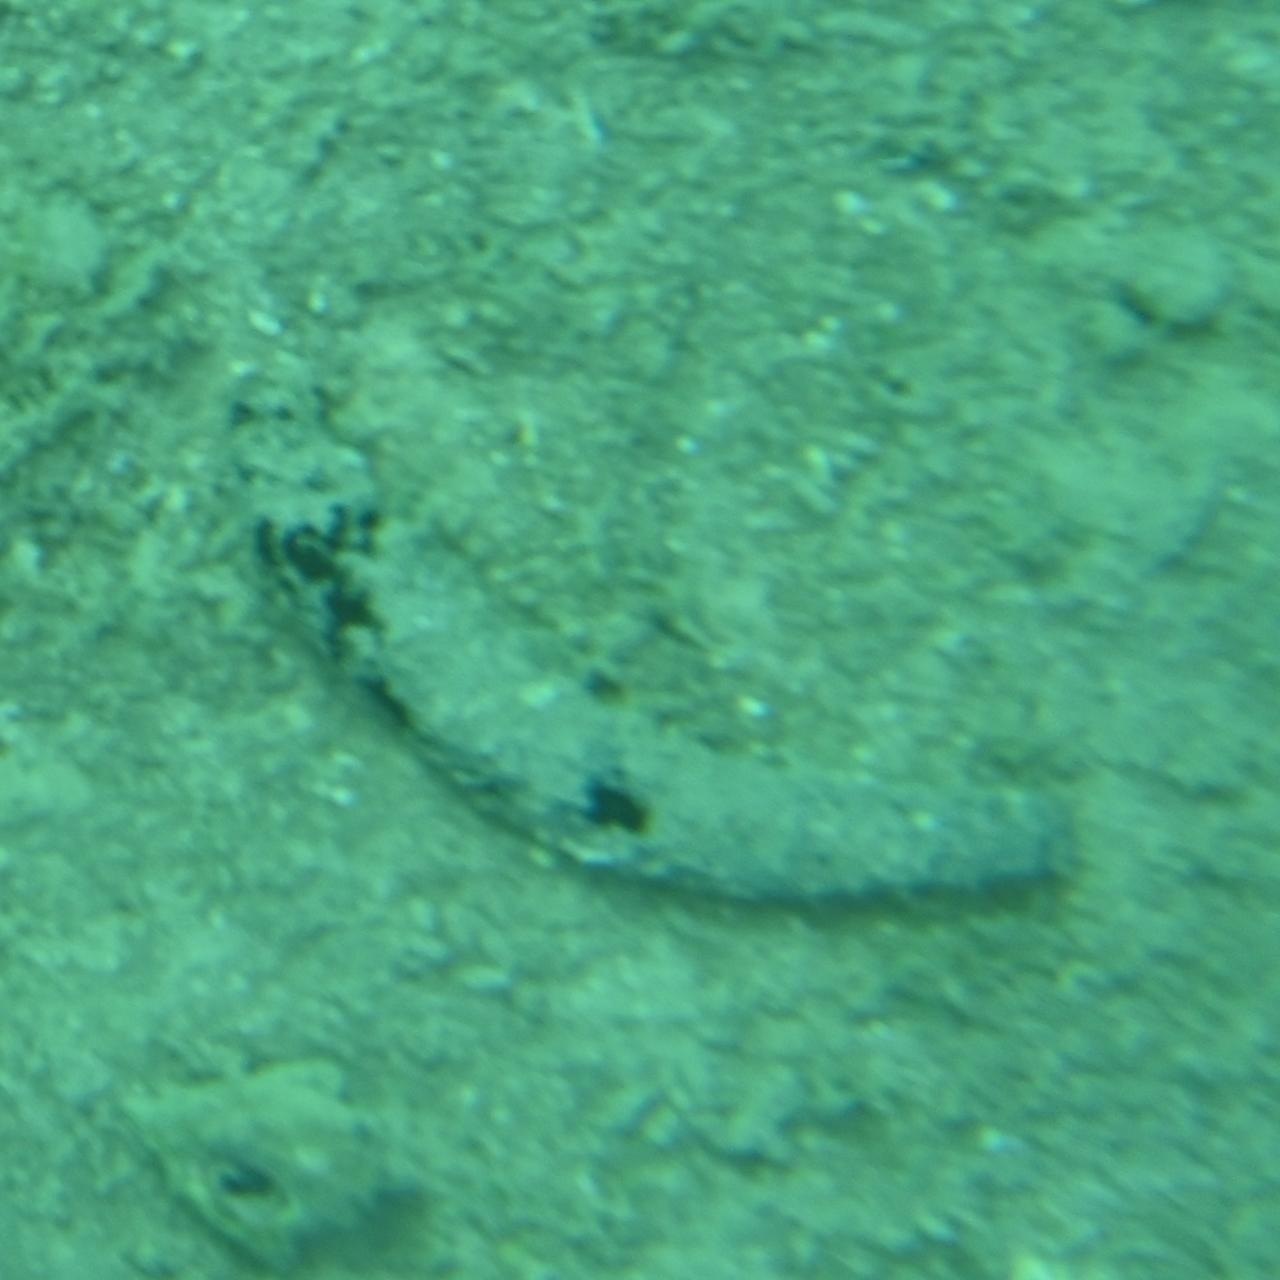Holothuria tubulosa: (198, 356, 1082, 924)
